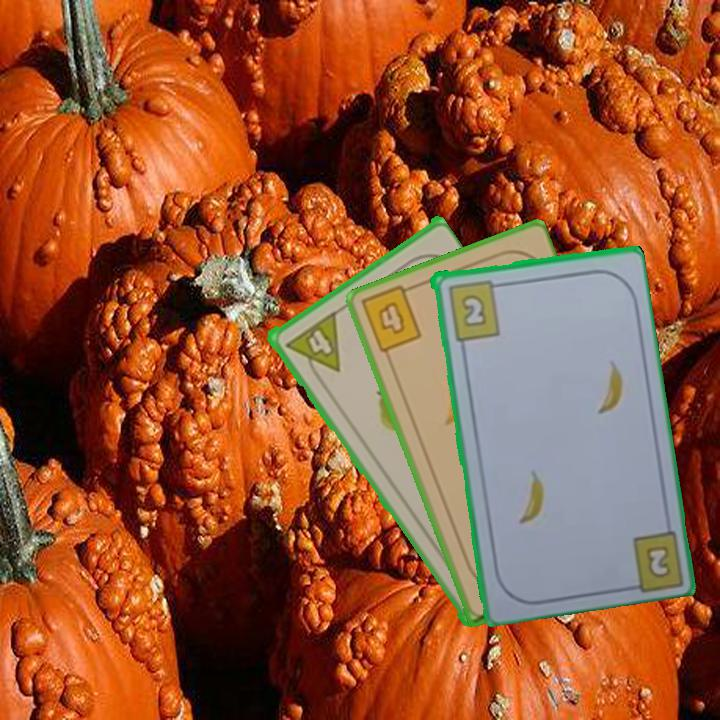2b: (444, 276, 505, 343), (645, 545, 670, 578)
4b: (357, 281, 424, 356)
4p: (281, 308, 343, 385)
